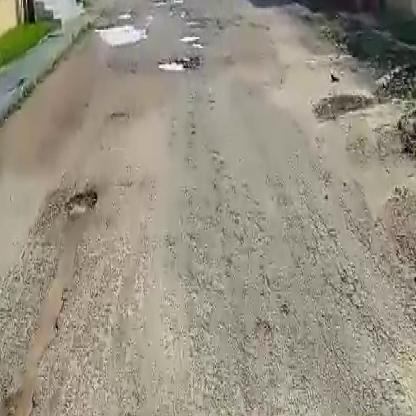pothole: (96, 16, 146, 45), (61, 183, 100, 215), (157, 57, 193, 75), (182, 33, 206, 44)
